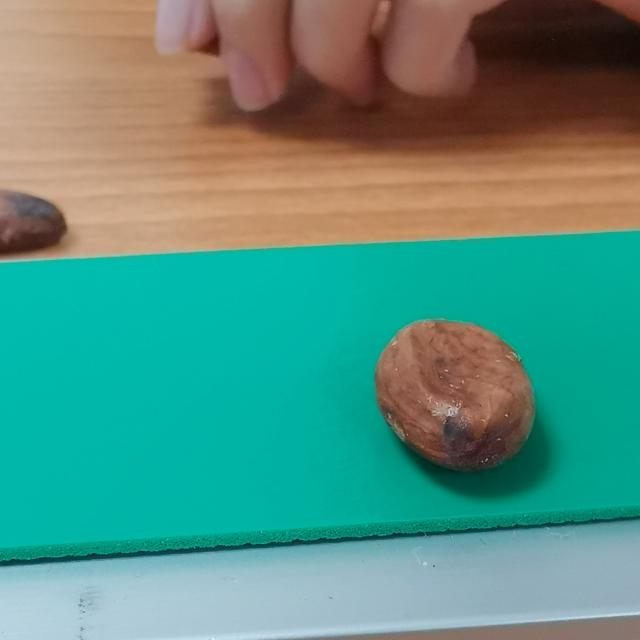Fine_cocoabeans: (235, 284, 640, 534)
